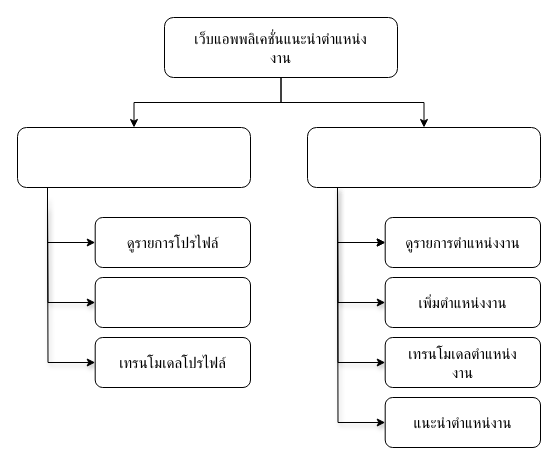
This 558x465 diagram has some shape labels left out. Here are the shapes that lost their labels. From the top down, the centre of each, then its label:
At point (133, 157): "Profiles".
At point (423, 157): "Jobs".
At point (172, 302): "เพิ่มโปรไฟล์".
